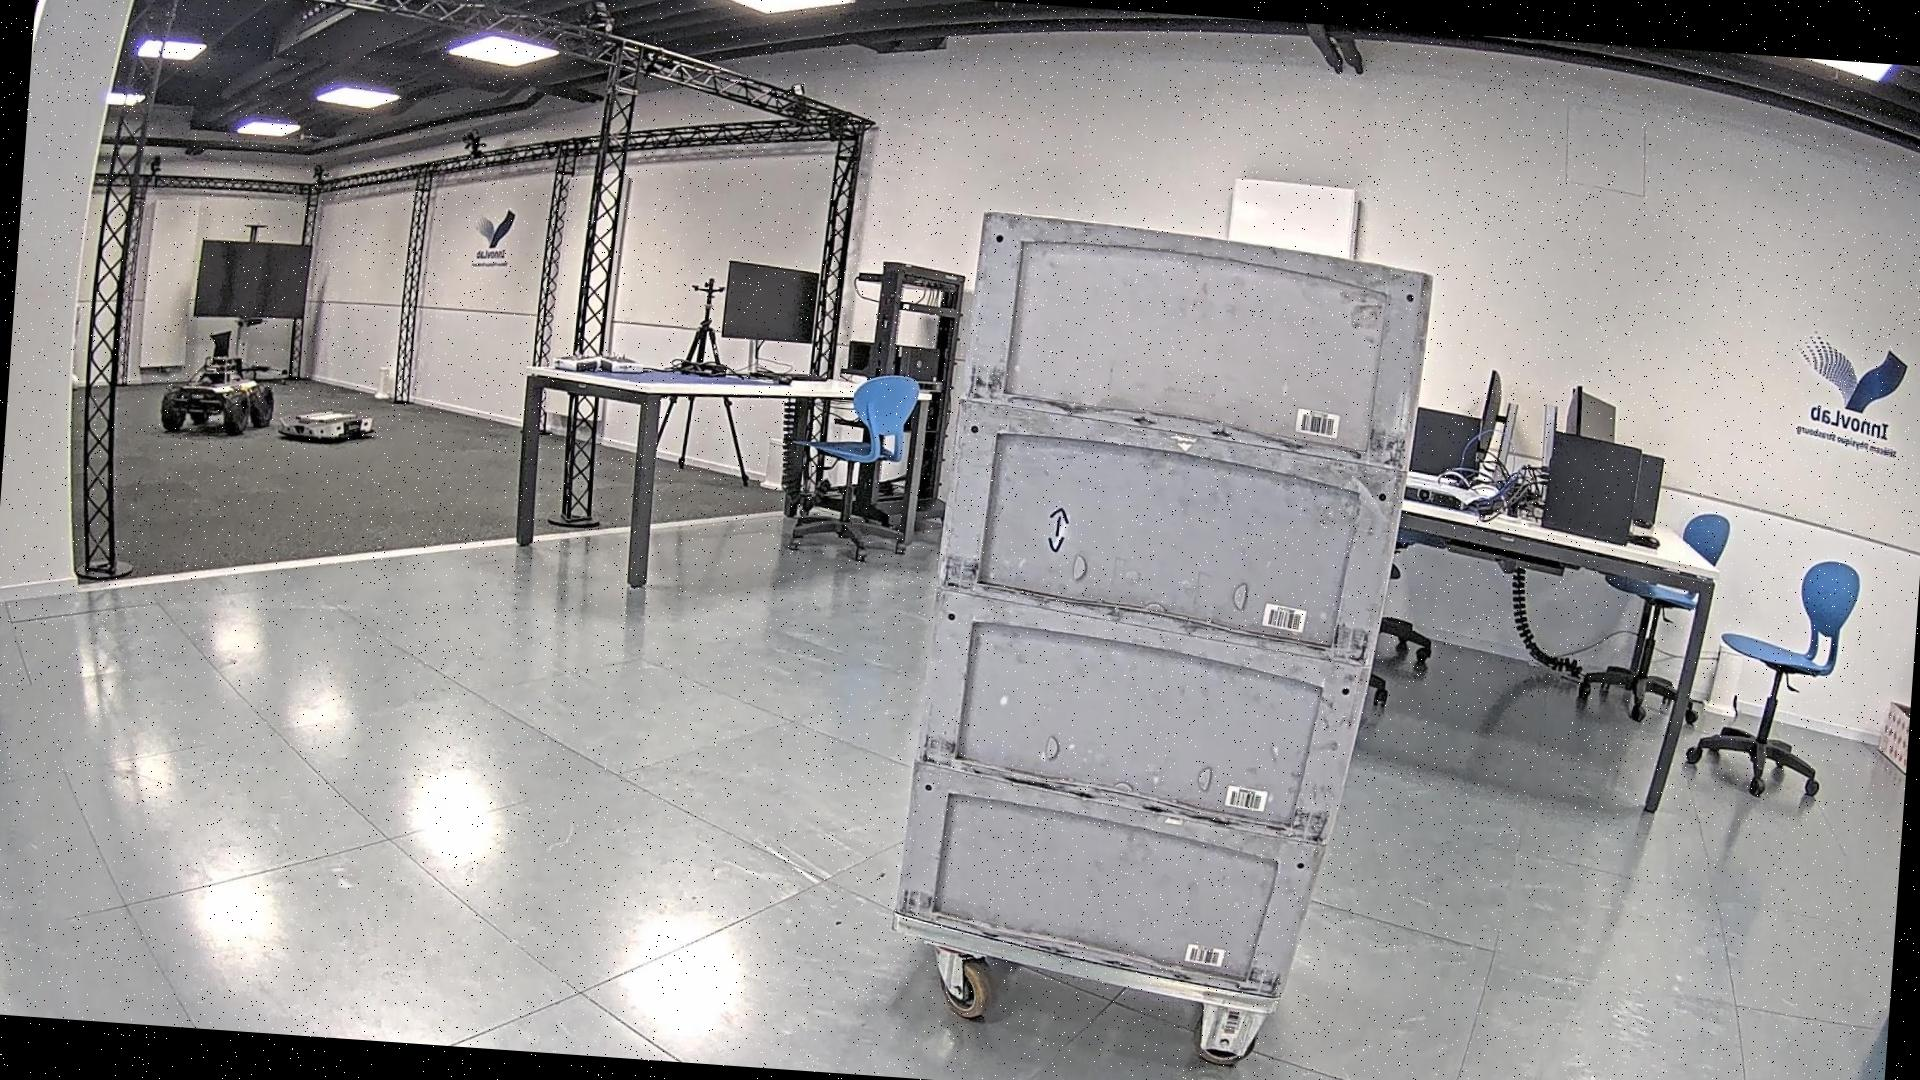Box4G: (880, 203, 1443, 1015)
